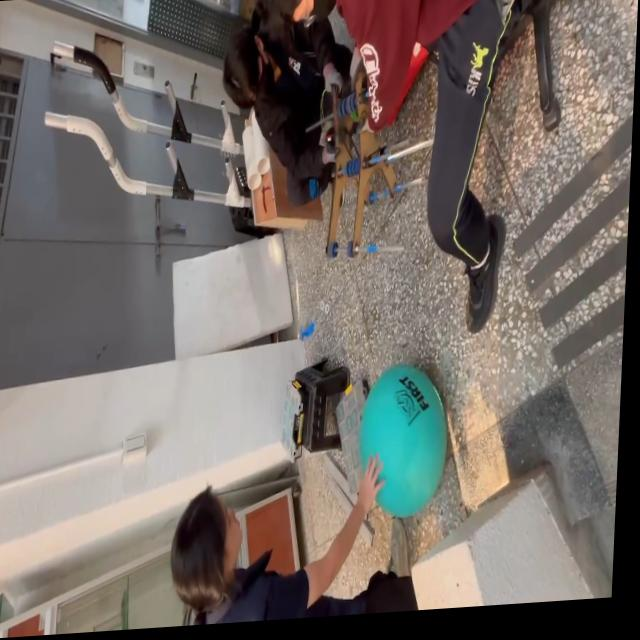ALGAE: (355, 359, 452, 523)
